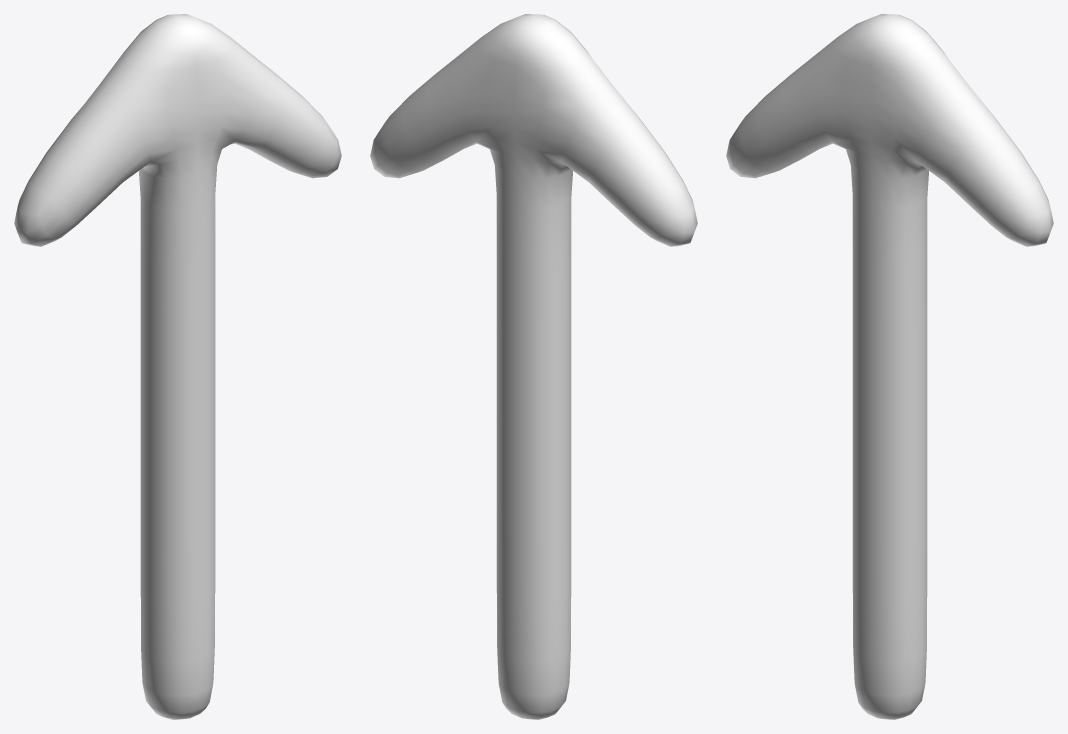
File: Arrow.fbx
The picture shows the model from 3 angles, left to right: view 1: azimuth 30°, elevation 25°; view 2: azimuth 150°, elevation 25°; view 3: azimuth 330°, elevation 25°; orthographic projection.
Visible parts, largest first — view 1: Cube; view 2: Cube; view 3: Cube.
Boxes of the visible parts, box(x1,y1,x2,y2) form: Cube: box(14, 14, 341, 719); Cube: box(370, 14, 697, 719); Cube: box(726, 14, 1053, 719).
Bounding box in the file's own units: 46.06 × 95.6 × 9.82.
